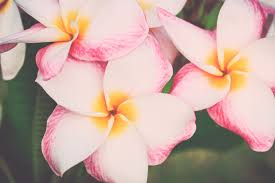frangipani: (157, 2, 275, 150)
